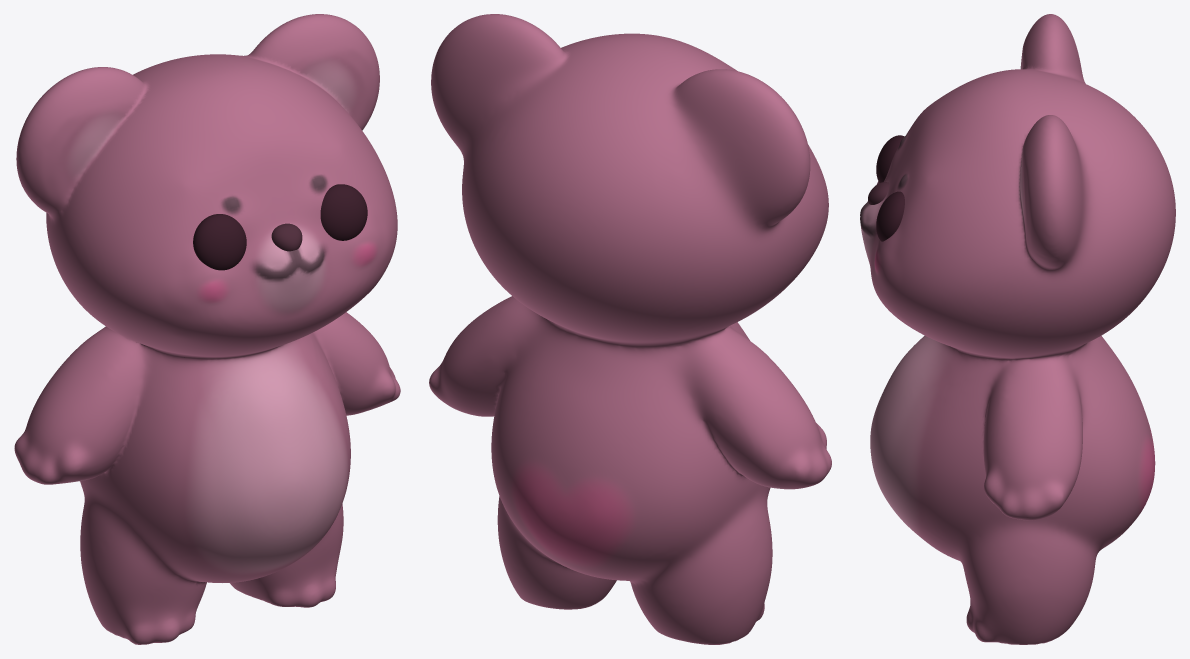
Rendered from Bear.glb.
3 renders of one model, left to right at view 1: azimuth 30°, elevation 25°; view 2: azimuth 150°, elevation 25°; view 3: azimuth 270°, elevation 25°, orthographic. The views are drawn at different scales.
Visible parts, largest first — view 1: arms, Mirror 1; view 2: arms; view 3: arms, Mirror 1.
Part boxes in pixels (<box>): arms: <box>14,14,400,644</box>; Mirror 1: <box>193,184,367,270</box>; arms: <box>429,14,831,644</box>; arms: <box>860,14,1175,644</box>; Mirror 1: <box>868,135,904,241</box>.
Bounding box in the file's own units: 1.27 × 1.81 × 0.987.
